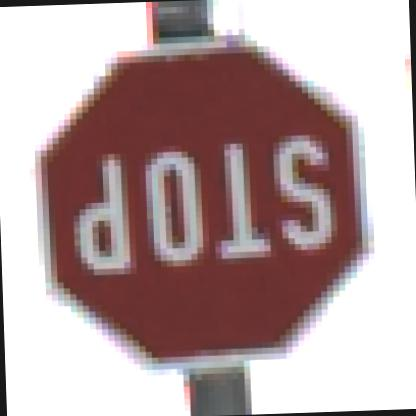stop: (31, 26, 371, 381)
